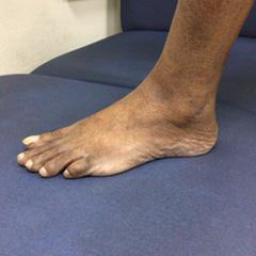Lateral View -Left Foot-: (12, 62, 230, 183)
